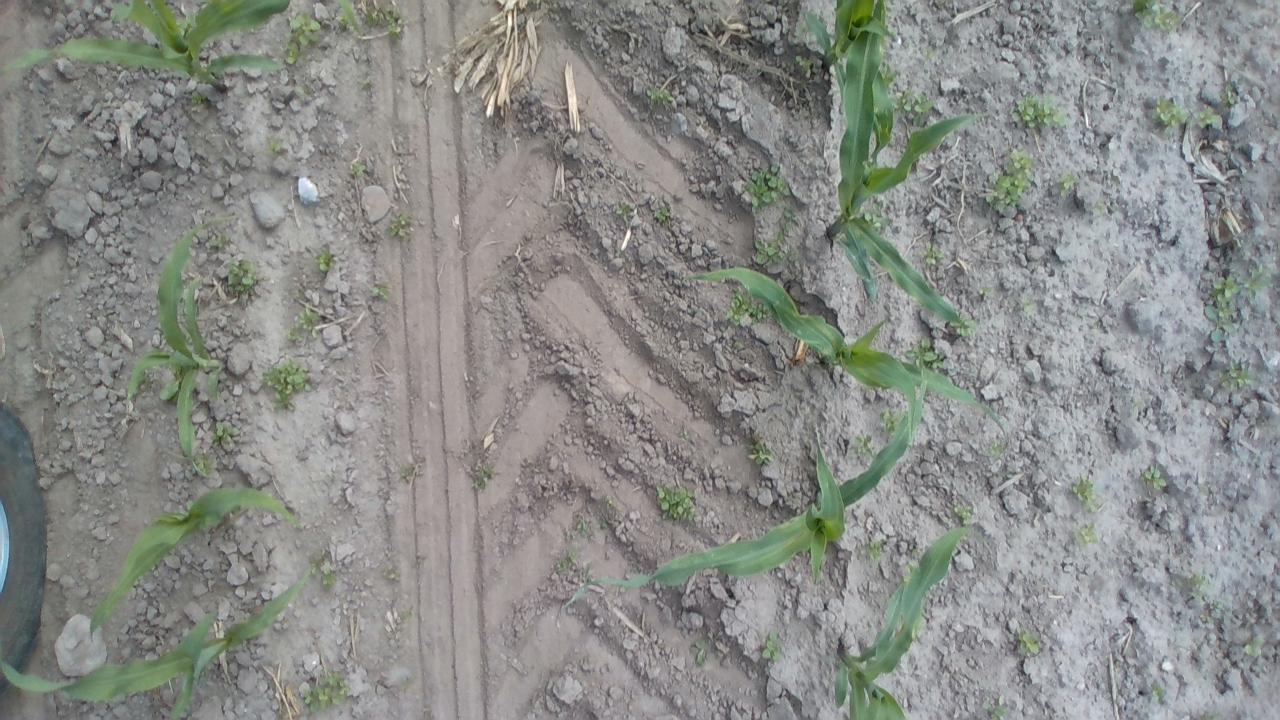Maize: (558, 384, 926, 614), (686, 266, 1008, 434), (3, 563, 311, 720), (827, 0, 963, 323), (90, 488, 300, 644), (125, 214, 228, 480), (833, 527, 967, 720), (8, 0, 292, 91), (805, 0, 892, 155)
Weeds: (982, 148, 1034, 216), (256, 354, 314, 412), (1204, 275, 1241, 343), (742, 165, 793, 214), (301, 670, 350, 715), (726, 288, 775, 327), (1010, 94, 1066, 128), (283, 12, 319, 64), (656, 482, 700, 522), (892, 89, 936, 128), (754, 231, 800, 268), (1132, 0, 1183, 33), (366, 4, 405, 41), (1071, 470, 1103, 514), (904, 337, 944, 370), (227, 256, 260, 295), (286, 307, 322, 342), (1218, 364, 1257, 394), (308, 552, 338, 590), (1152, 99, 1186, 128), (158, 365, 183, 403), (880, 408, 907, 439), (861, 204, 890, 230), (1194, 105, 1224, 130), (1240, 269, 1272, 292), (853, 434, 880, 461), (782, 54, 818, 74), (746, 440, 776, 464), (951, 312, 980, 336), (1074, 521, 1100, 547), (1141, 464, 1167, 489), (1017, 626, 1040, 654), (213, 420, 240, 442), (920, 243, 945, 266), (792, 20, 814, 46), (762, 631, 782, 659), (1200, 600, 1223, 624), (646, 86, 675, 105), (1188, 574, 1210, 599), (314, 247, 336, 272), (880, 60, 899, 88), (1056, 168, 1078, 192), (391, 215, 412, 239), (190, 456, 212, 478), (614, 202, 636, 224), (691, 637, 710, 662), (556, 550, 577, 572), (955, 502, 976, 524), (1243, 637, 1265, 658), (173, 15, 194, 36), (265, 134, 285, 156), (1220, 80, 1238, 104), (784, 207, 800, 234), (913, 608, 925, 642), (862, 539, 881, 560), (190, 90, 210, 109), (474, 464, 490, 486), (374, 284, 391, 302), (382, 565, 402, 580), (1150, 682, 1166, 700), (141, 370, 154, 391), (209, 234, 227, 249), (654, 206, 670, 222), (350, 162, 366, 178), (188, 397, 202, 415), (398, 464, 416, 478), (989, 706, 1006, 720), (1092, 199, 1106, 216), (863, 156, 876, 172), (336, 12, 349, 28), (1022, 296, 1034, 313), (988, 442, 1002, 456), (144, 1, 157, 16), (926, 45, 938, 60), (294, 85, 307, 98), (598, 520, 612, 532), (606, 494, 618, 508), (360, 78, 373, 90), (576, 520, 588, 532), (904, 566, 914, 580), (1205, 712, 1221, 720), (196, 0, 208, 10), (400, 612, 415, 620), (248, 25, 257, 34), (980, 286, 990, 294), (619, 584, 628, 592)
